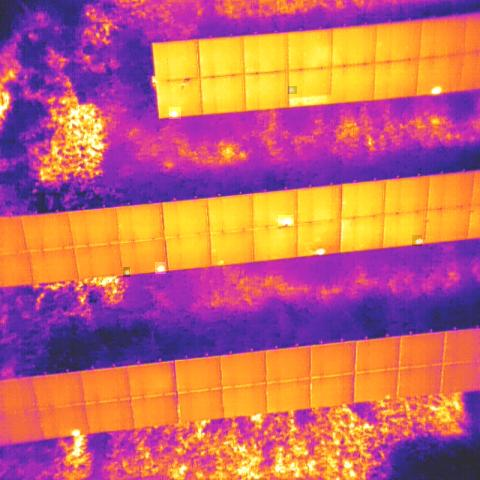fault: (288, 94, 330, 110), (278, 215, 295, 226), (429, 84, 443, 96), (312, 245, 326, 257), (169, 107, 182, 119), (70, 425, 80, 439), (155, 262, 166, 274), (412, 235, 422, 246), (288, 86, 297, 94), (123, 267, 130, 277)
